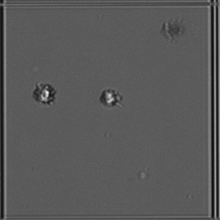Dead Cell: (159, 18, 188, 47)
Living Cell: (29, 78, 63, 112), (97, 84, 125, 112)
